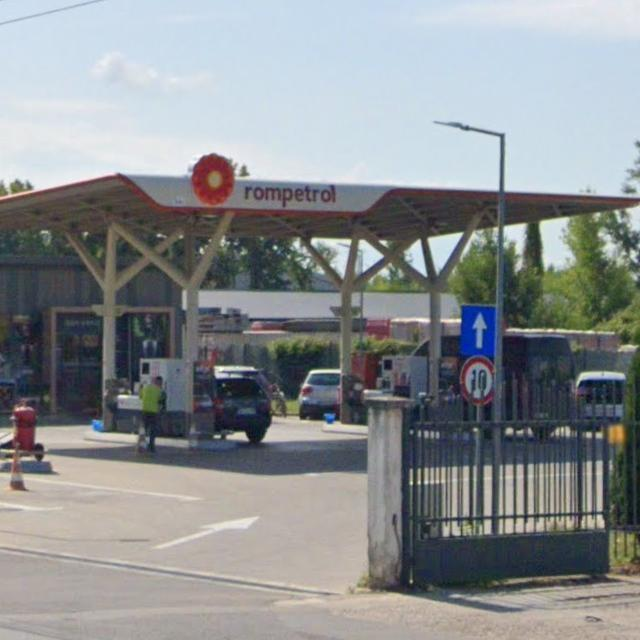forb_speed_over_10: (460, 358, 495, 405)
